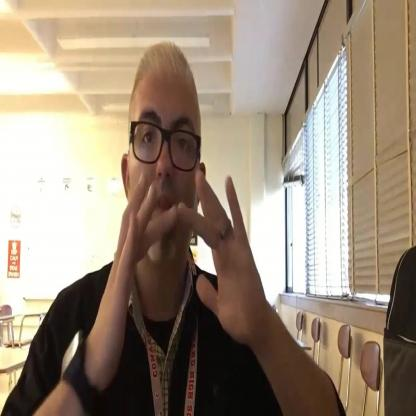Internet: (90, 162, 265, 380)
